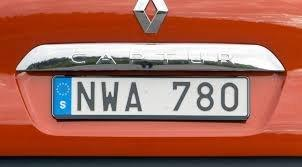license-plates: (52, 76, 250, 120)
